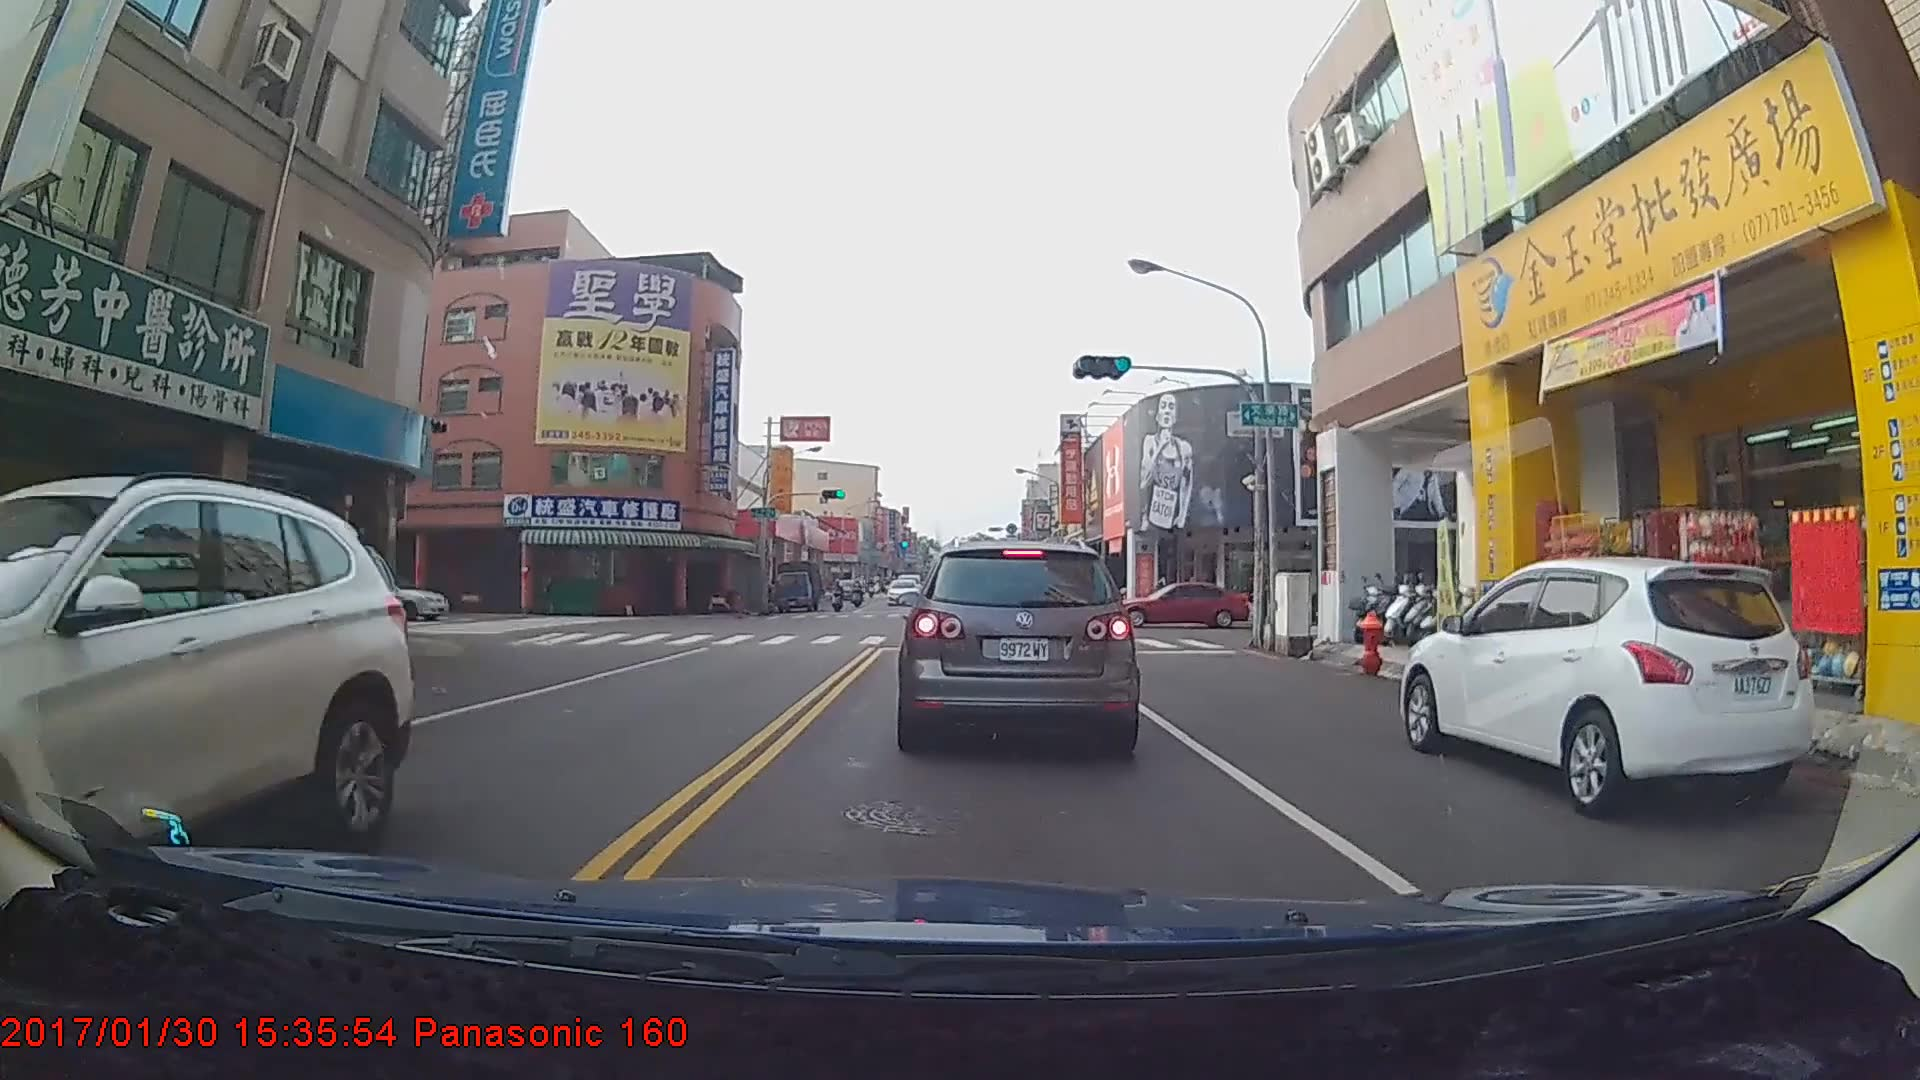rider: (824, 580, 848, 615), (847, 576, 867, 605)
vehicle: (0, 483, 438, 979), (1398, 555, 1816, 818), (902, 533, 1136, 754), (1107, 580, 1247, 632), (771, 560, 823, 613), (886, 579, 921, 609)
